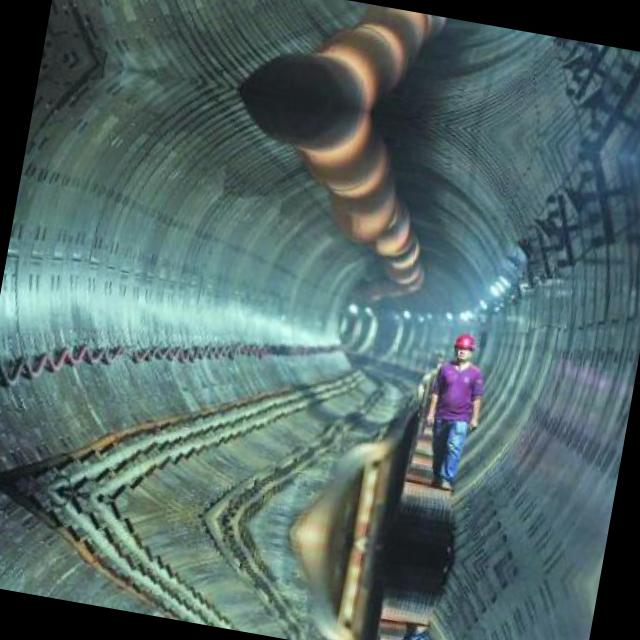helmet: (450, 328, 477, 366)
